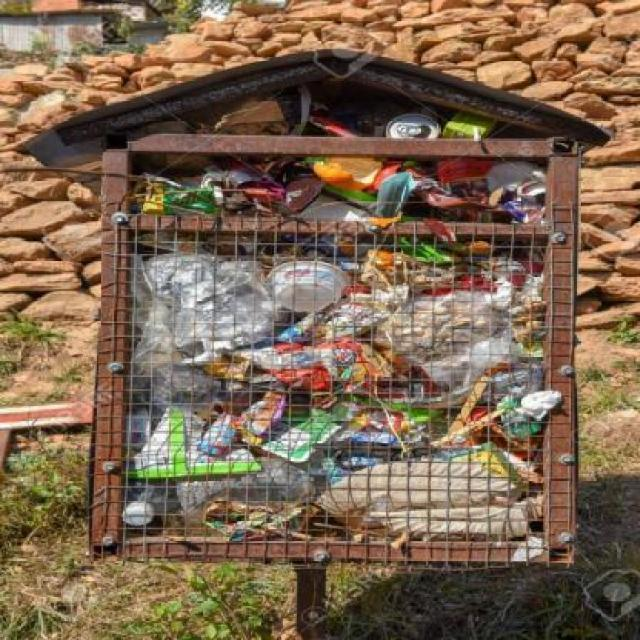garbage: (143, 249, 537, 556), (126, 160, 546, 225)
